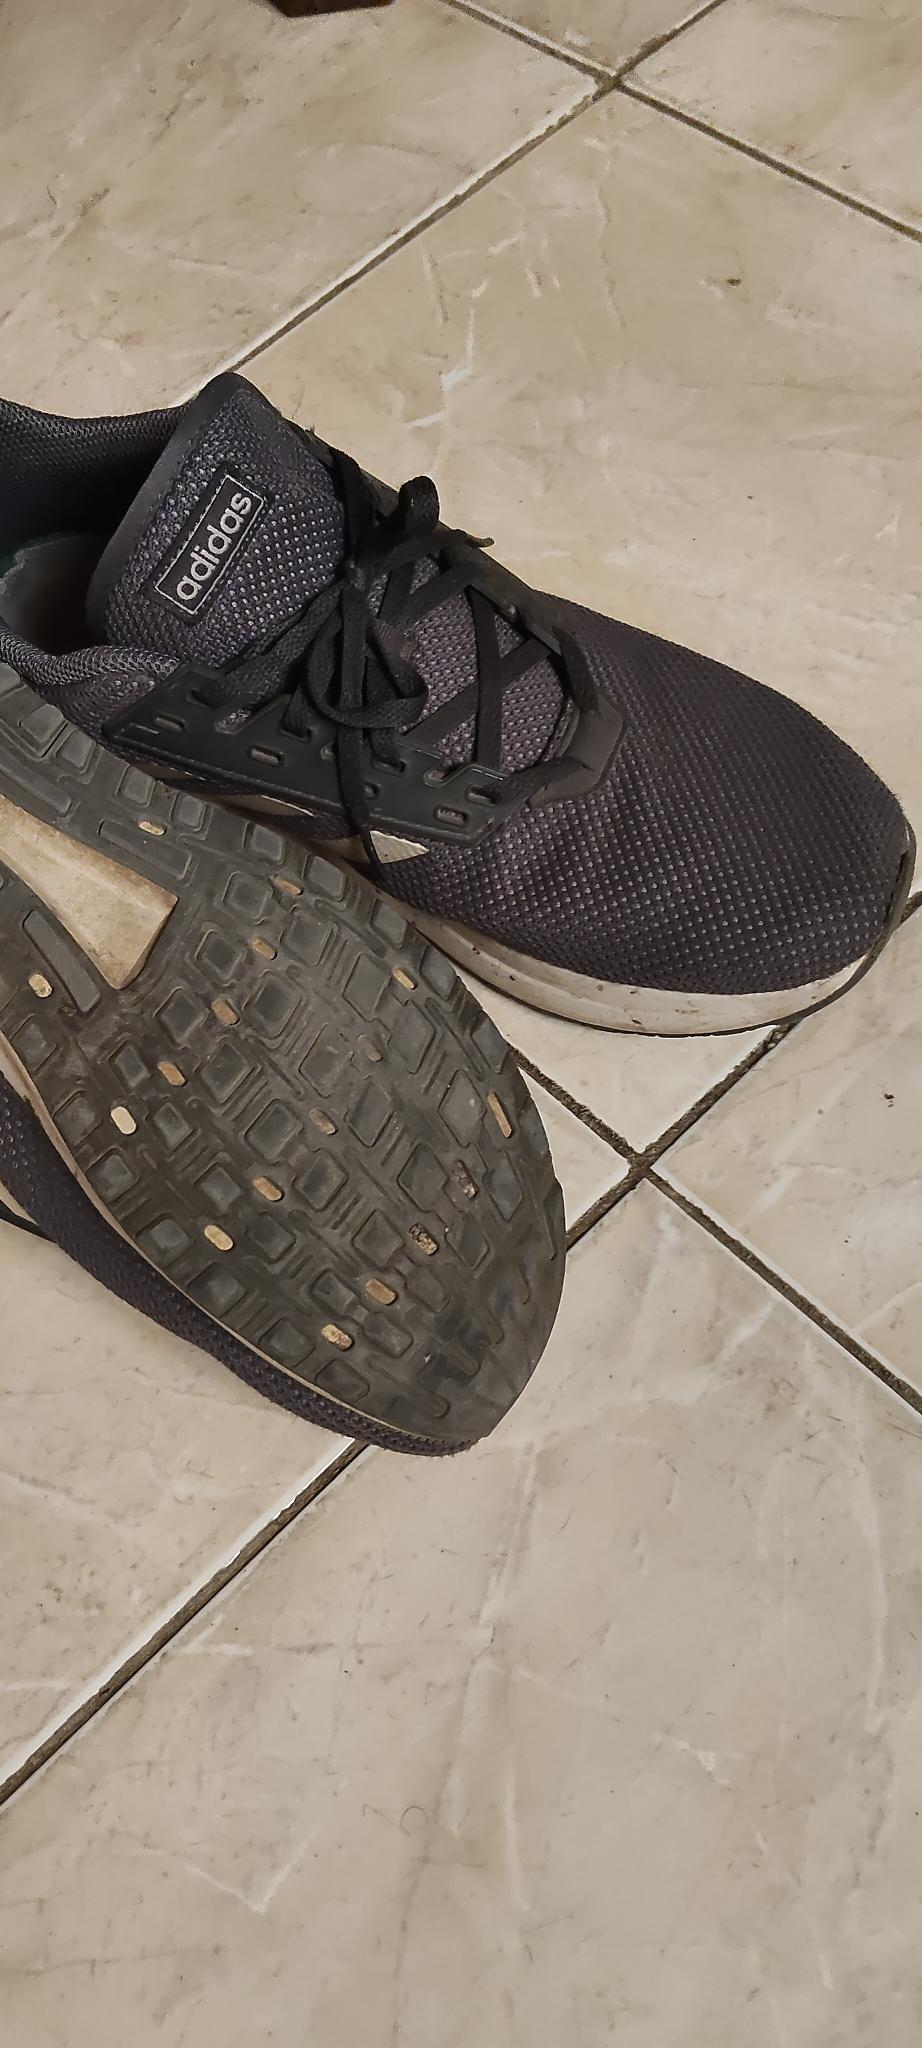Shoes: (0, 365, 920, 1037), (0, 659, 570, 1452)
